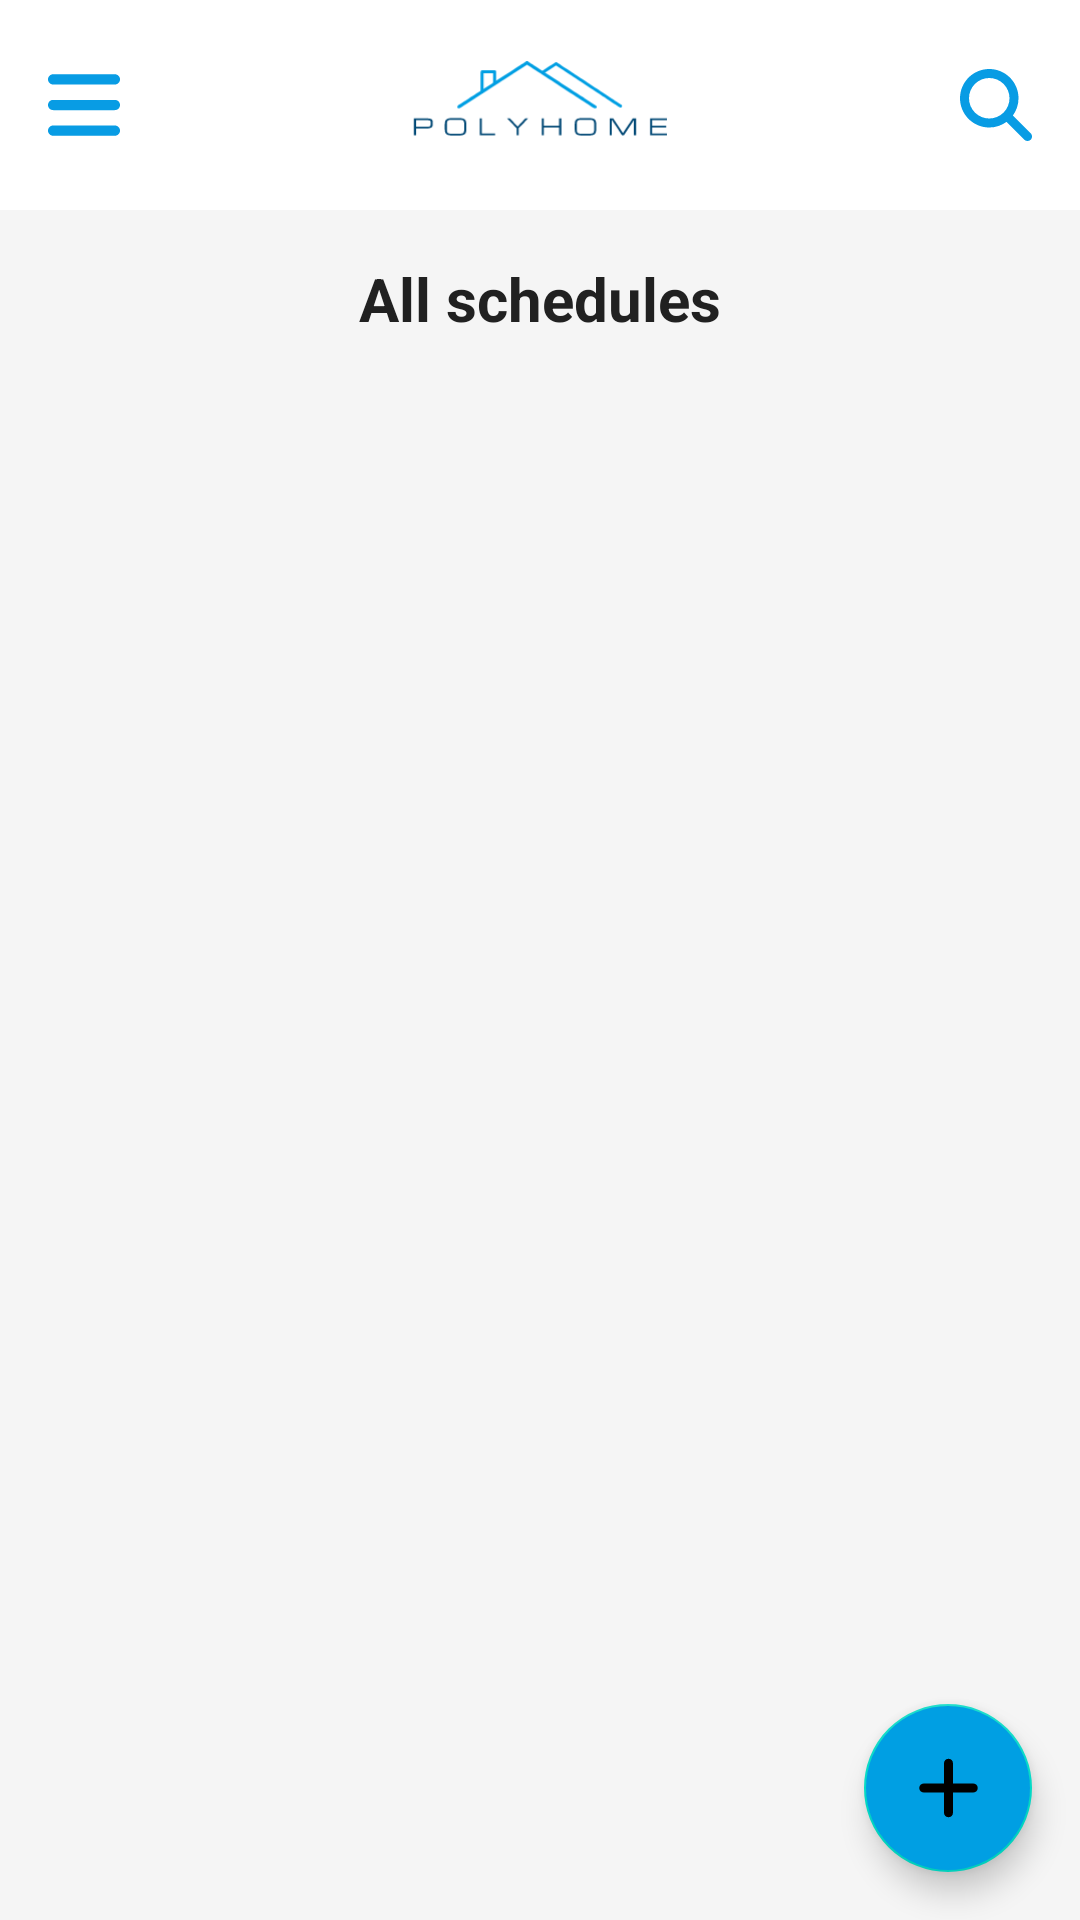

Icons on this 1080w x 1920h Android screen, each with the point to tap as [x,y]:
Add Schedule: [948,1788]
Menu Button: [84,105]
Search Icon: [996,105]
